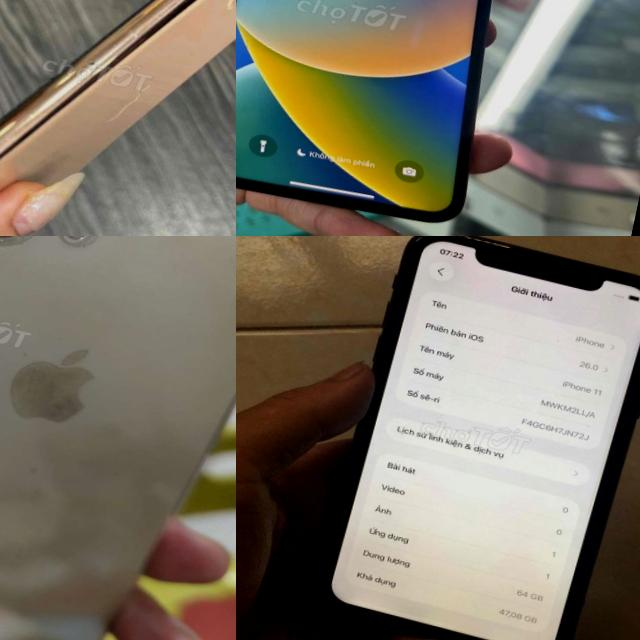gen_11: (316, 236, 640, 640), (0, 0, 236, 236)
gen_7_8: (0, 236, 236, 640)
gen_x_xs: (236, 0, 558, 236)
scratch: (3, 330, 110, 438)
